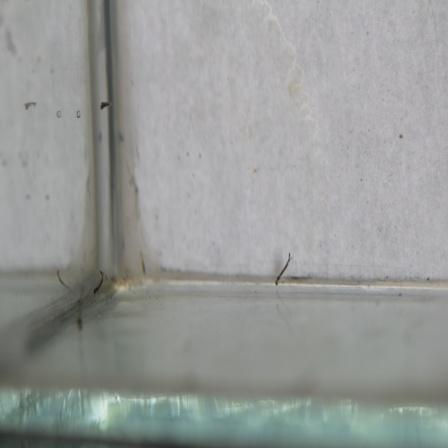Jentik-Nyamuk: (268, 249, 295, 287), (89, 267, 108, 297), (95, 98, 115, 113)
